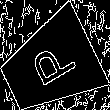P_SW: (22, 38, 78, 93)
